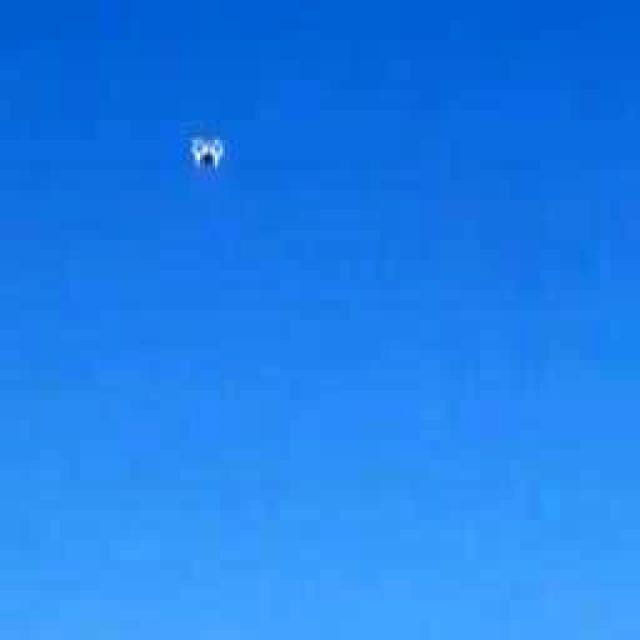bird: (156, 114, 251, 194)
